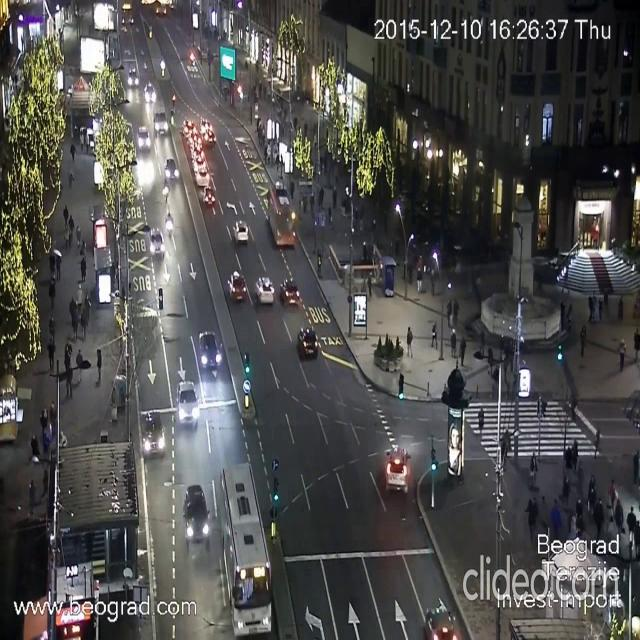bus: (220, 462, 272, 636)
car: (182, 484, 210, 544), (423, 597, 460, 639), (384, 446, 410, 494), (140, 411, 166, 458), (176, 379, 200, 428), (196, 329, 222, 370), (298, 326, 318, 359), (282, 276, 300, 308), (230, 268, 248, 300), (148, 228, 166, 258), (257, 280, 274, 306), (154, 105, 168, 134), (234, 219, 248, 247), (195, 170, 212, 188), (202, 128, 218, 146), (138, 128, 151, 150), (164, 160, 177, 181), (129, 65, 139, 91), (190, 137, 204, 155), (144, 84, 156, 103), (185, 122, 199, 138), (204, 189, 216, 207), (195, 152, 205, 166)
